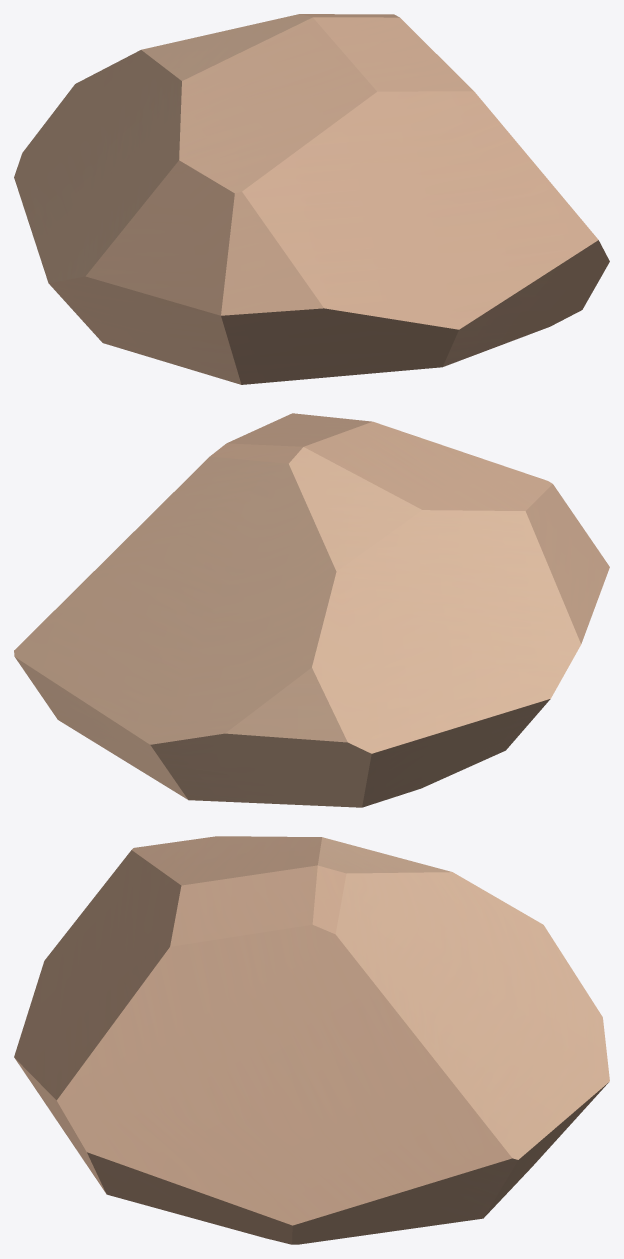
The model's file is Rock_1.fbx.
The picture shows the model from 3 angles, top to bottom: view 1: azimuth 30°, elevation 25°; view 2: azimuth 150°, elevation 25°; view 3: azimuth 270°, elevation 25°; orthographic projection. The views are drawn at different scales.
Visible parts, largest first — view 1: Rocher.001; view 2: Rocher.001; view 3: Rocher.001.
Boxes of the visible parts, bbox=[...] form: Rocher.001: bbox=[14, 14, 609, 384]; Rocher.001: bbox=[14, 413, 609, 807]; Rocher.001: bbox=[14, 836, 609, 1244].
Size of the model in its own units: 0.2067 by 0.1212 by 0.2201.
